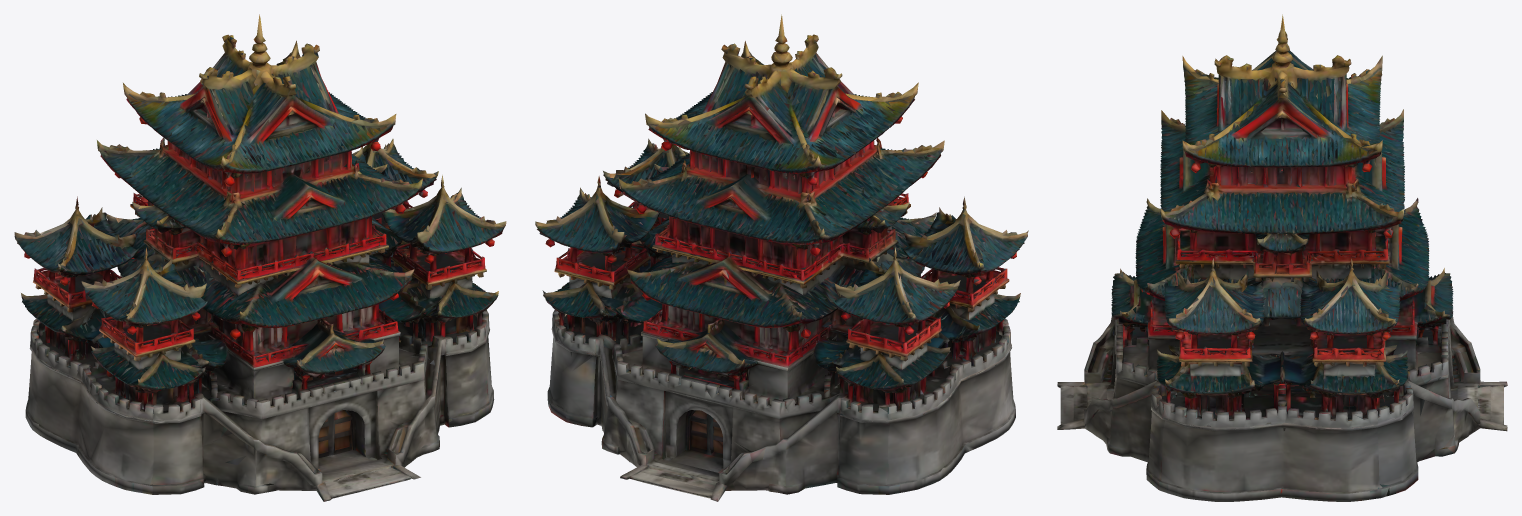
Rendered from Majestic_Pagoda_Palac.glb.
3 renders of one model, left to right at view 1: azimuth 30°, elevation 25°; view 2: azimuth 150°, elevation 25°; view 3: azimuth 270°, elevation 25°, orthographic.
Visible parts, largest first — view 1: Majestic_Pagoda_Palac; view 2: Majestic_Pagoda_Palac; view 3: Majestic_Pagoda_Palac.
Boxes of the visible parts, x1,y1,x2,y2 form: Majestic_Pagoda_Palac: (14,14,506,501); Majestic_Pagoda_Palac: (535,14,1028,501); Majestic_Pagoda_Palac: (1057,14,1507,501).
Size of the model in its own units: 1.87 by 1.83 by 1.9.
Materials: 1 (1 with a texture image).
